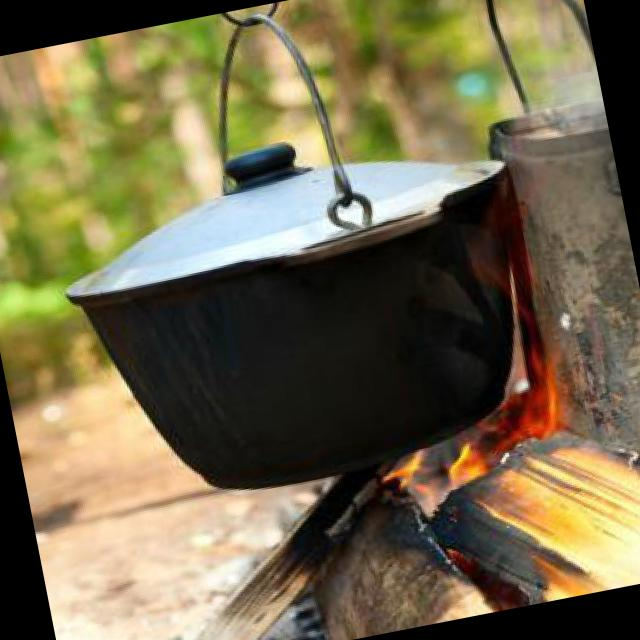Fire: (372, 345, 604, 507)
